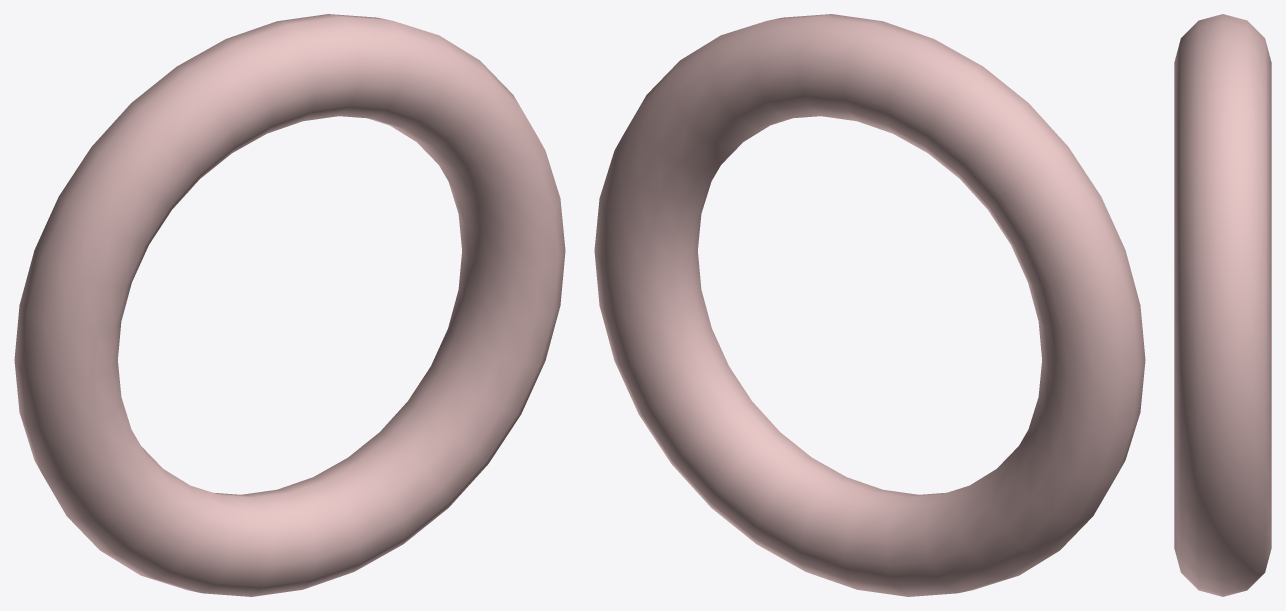
Rendered from ACX_OR_12MM_ROSEGOLD.glb.
3 views of the same model, side by side, from view 1: azimuth 30°, elevation 25°; view 2: azimuth 150°, elevation 25°; view 3: azimuth 270°, elevation 25° (orthographic). The views are drawn at different scales.
Parts seen in each view (by area): view 1: ACX_OR_12MM_ROSEGOLD; view 2: ACX_OR_12MM_ROSEGOLD; view 3: ACX_OR_12MM_ROSEGOLD.
Part boxes in pixels (x1,y1,x2,y2): ACX_OR_12MM_ROSEGOLD: (14,14,565,596); ACX_OR_12MM_ROSEGOLD: (594,14,1145,596); ACX_OR_12MM_ROSEGOLD: (1174,14,1271,596).
Bounding box in the file's own units: 1.2 × 1.2 × 0.2.
